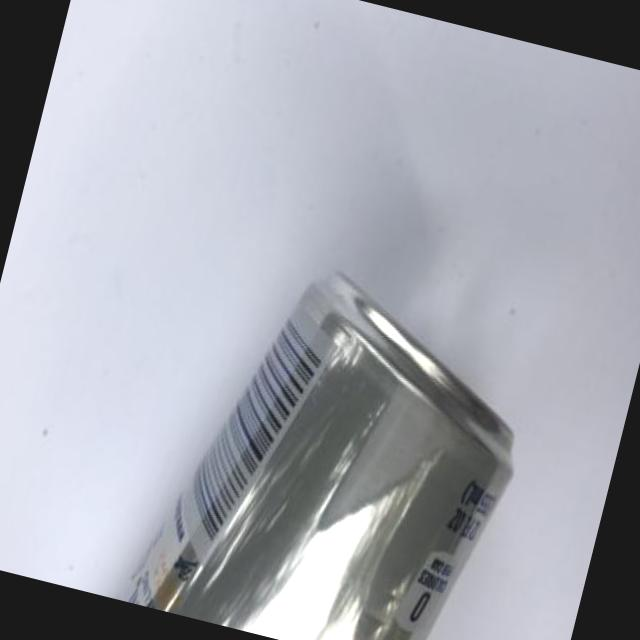kim_loai: (128, 276, 514, 640)
